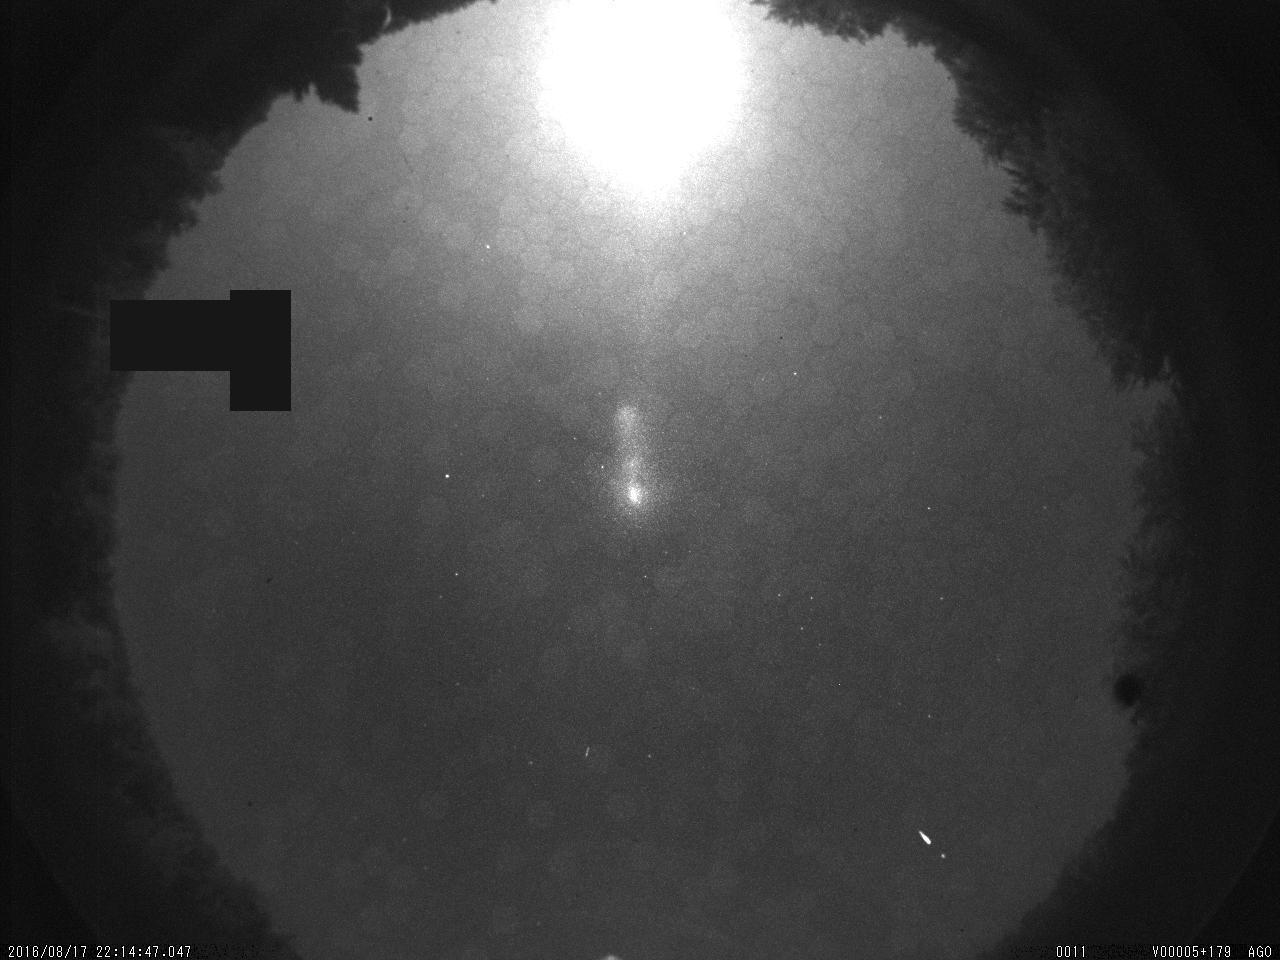Meteor: (914, 822, 936, 852)
